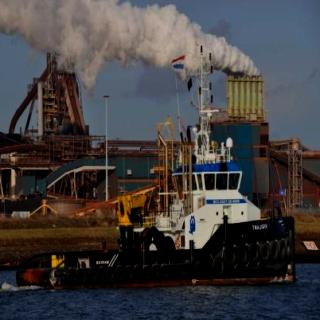Tug Boat: (1, 120, 301, 289)
